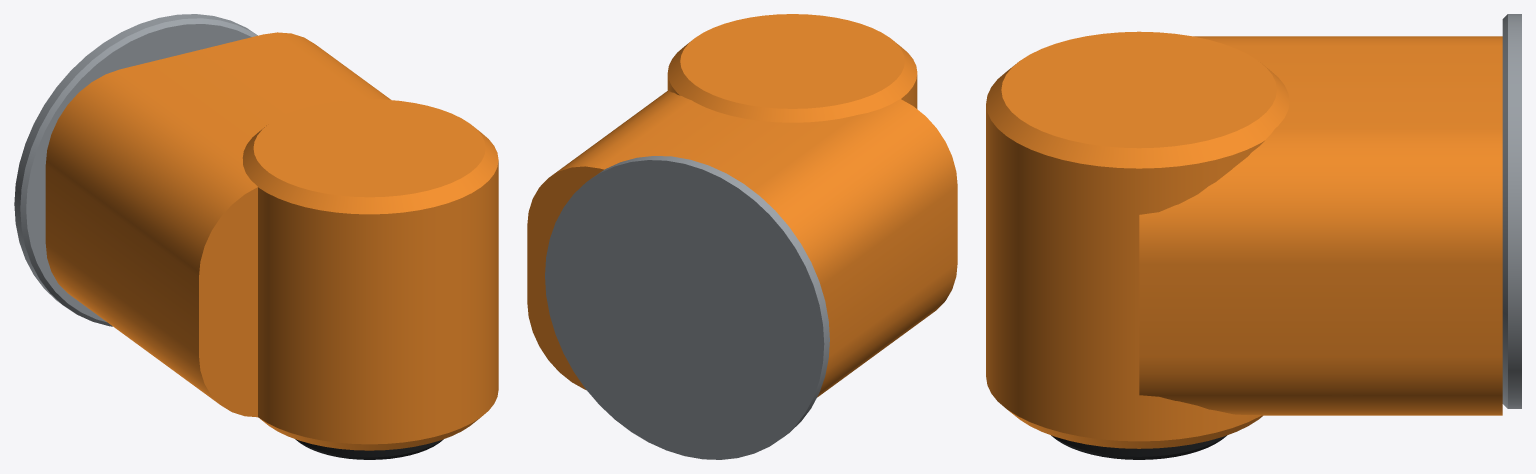
The picture shows the model from 3 angles, left to right: view 1: azimuth 30°, elevation 25°; view 2: azimuth 150°, elevation 25°; view 3: azimuth 270°, elevation 25°; orthographic projection. The views are drawn at different scales.
Visible parts, largest first — view 1: link1; view 2: link1; view 3: link1.
Part boxes in pixels (x1,y1,x2,y2): link1: (14,14,498,459); link1: (527,14,957,459); link1: (986,14,1521,459).
Bounding box in the file's own units: 0.1269 × 0.1163 × 0.1575.
